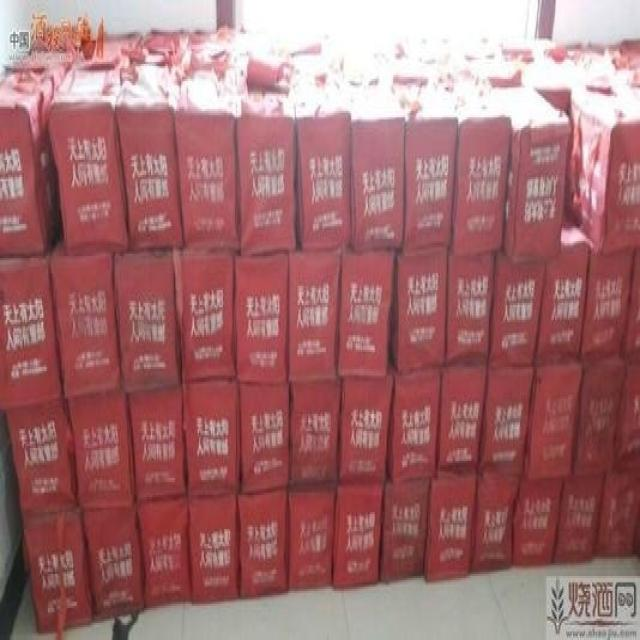box: (455, 38, 570, 260), (525, 38, 640, 254), (405, 32, 513, 256), (47, 34, 143, 250), (369, 34, 459, 247), (328, 34, 405, 250), (115, 32, 191, 247), (176, 30, 241, 250), (289, 32, 352, 252), (236, 30, 297, 254), (0, 62, 68, 256), (0, 222, 64, 410), (53, 235, 122, 397), (115, 247, 180, 390), (533, 207, 590, 361), (5, 399, 77, 516), (24, 508, 92, 629), (176, 250, 236, 384), (67, 388, 134, 508), (80, 506, 144, 621), (235, 254, 289, 384), (338, 250, 394, 375), (393, 245, 449, 369), (290, 247, 342, 380), (182, 378, 240, 497), (129, 384, 186, 503), (490, 250, 547, 367), (524, 363, 581, 480), (385, 365, 441, 482), (423, 467, 477, 580), (138, 495, 191, 610), (573, 356, 624, 474), (490, 36, 570, 109), (478, 365, 533, 471), (582, 245, 633, 358), (240, 384, 290, 495), (339, 378, 392, 482), (291, 380, 343, 484), (437, 361, 487, 469), (188, 497, 239, 602), (381, 469, 429, 580), (447, 252, 494, 363), (240, 489, 288, 597), (472, 471, 521, 576), (334, 482, 382, 589), (289, 484, 336, 593), (551, 474, 603, 567), (513, 474, 563, 567), (566, 43, 640, 100), (597, 461, 640, 557), (615, 352, 640, 467), (626, 247, 640, 352), (621, 41, 640, 66)
